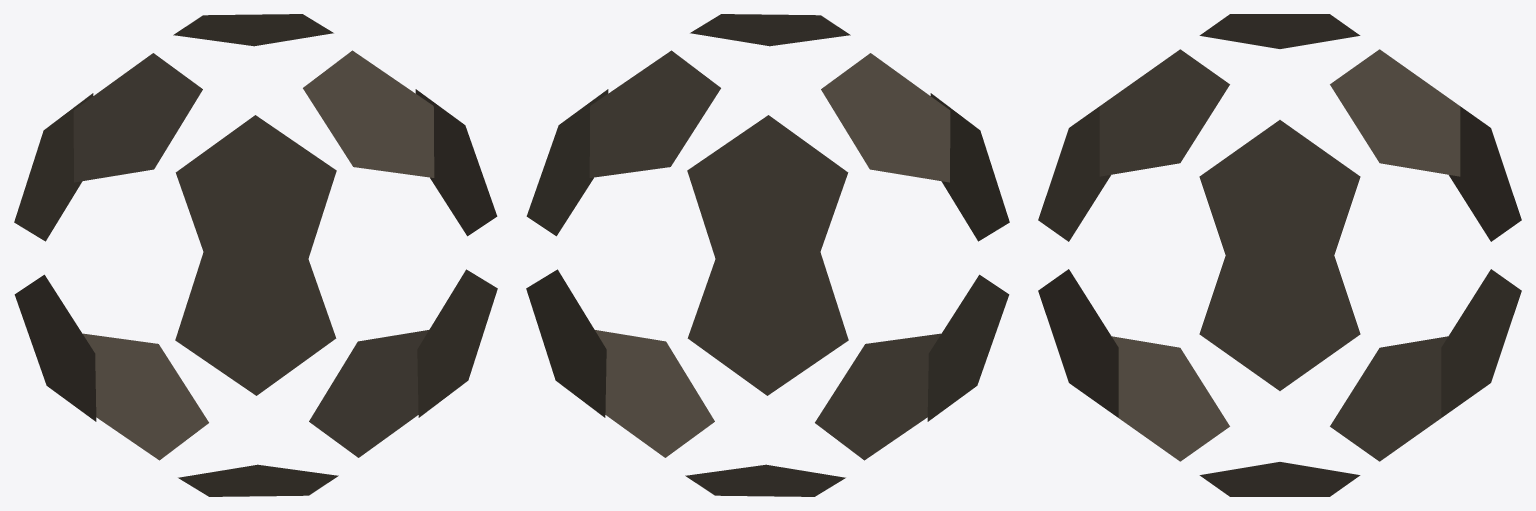
The model's file is SM_Toy_01.fbx.
3 views of the same model, side by side, from view 1: azimuth 30°, elevation 25°; view 2: azimuth 150°, elevation 25°; view 3: azimuth 270°, elevation 25° (orthographic).
Visible parts, largest first — view 1: SM_Toy_01; view 2: SM_Toy_01; view 3: SM_Toy_01.
Boxes of the visible parts, x1,y1,x2,y2 form: SM_Toy_01: (14,14,497,496); SM_Toy_01: (526,14,1009,496); SM_Toy_01: (1038,14,1521,496).
Bounding box in the file's own units: 23.81 × 22.15 × 23.57.
